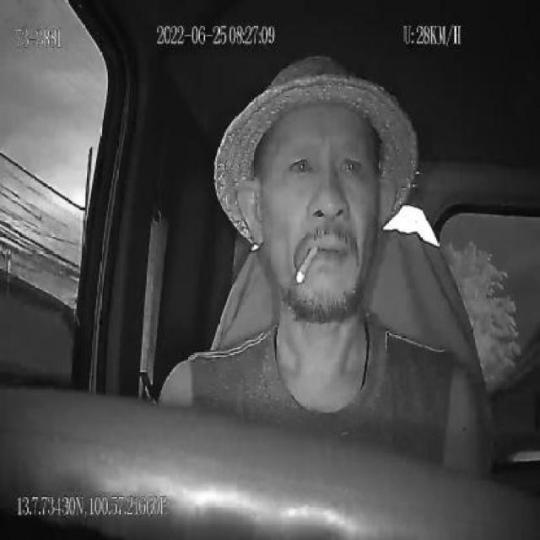smoking: (295, 243, 319, 288)
